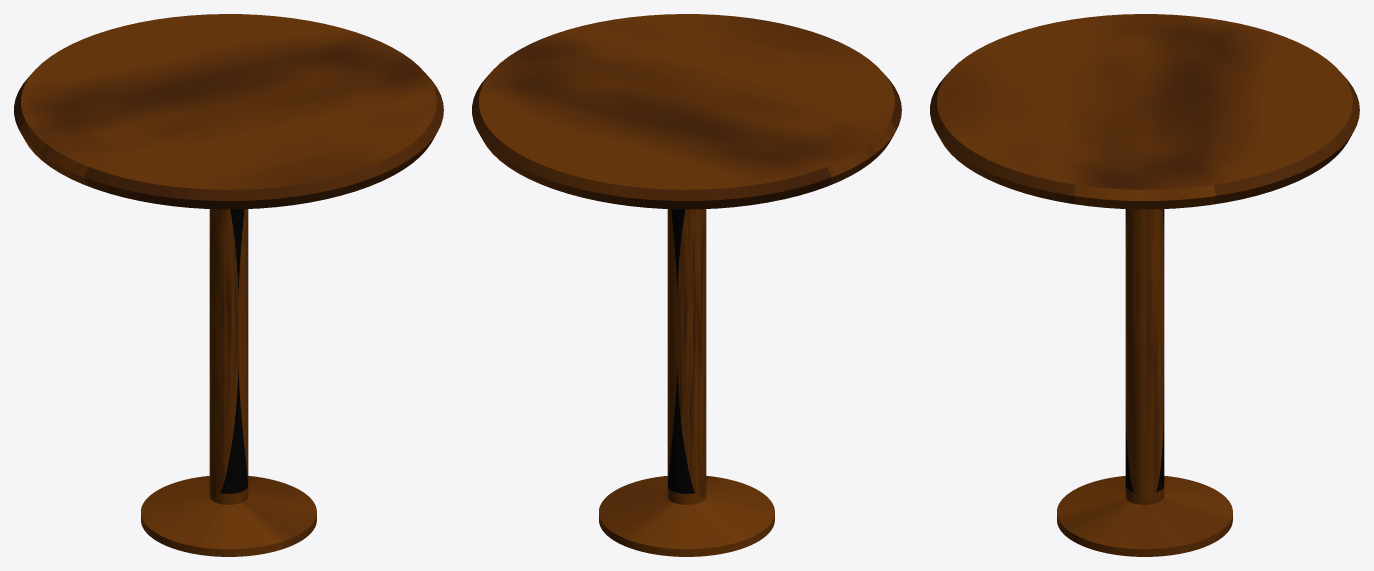
The model's file is low_poly_round_wooden_table.glb.
3 renders of one model, left to right at view 1: azimuth 30°, elevation 25°; view 2: azimuth 150°, elevation 25°; view 3: azimuth 270°, elevation 25°, orthographic.
Visible parts, largest first — view 1: Cylinder_0; view 2: Cylinder_0; view 3: Cylinder_0.
Boxes of the visible parts, left/top/right/bottom form: Cylinder_0: left=14, top=14, right=443, bottom=556; Cylinder_0: left=472, top=14, right=901, bottom=556; Cylinder_0: left=930, top=14, right=1359, bottom=556.
Bounding box in the file's own units: 3.31 × 3.55 × 3.31.
Materials: 1 (1 with a texture image).
